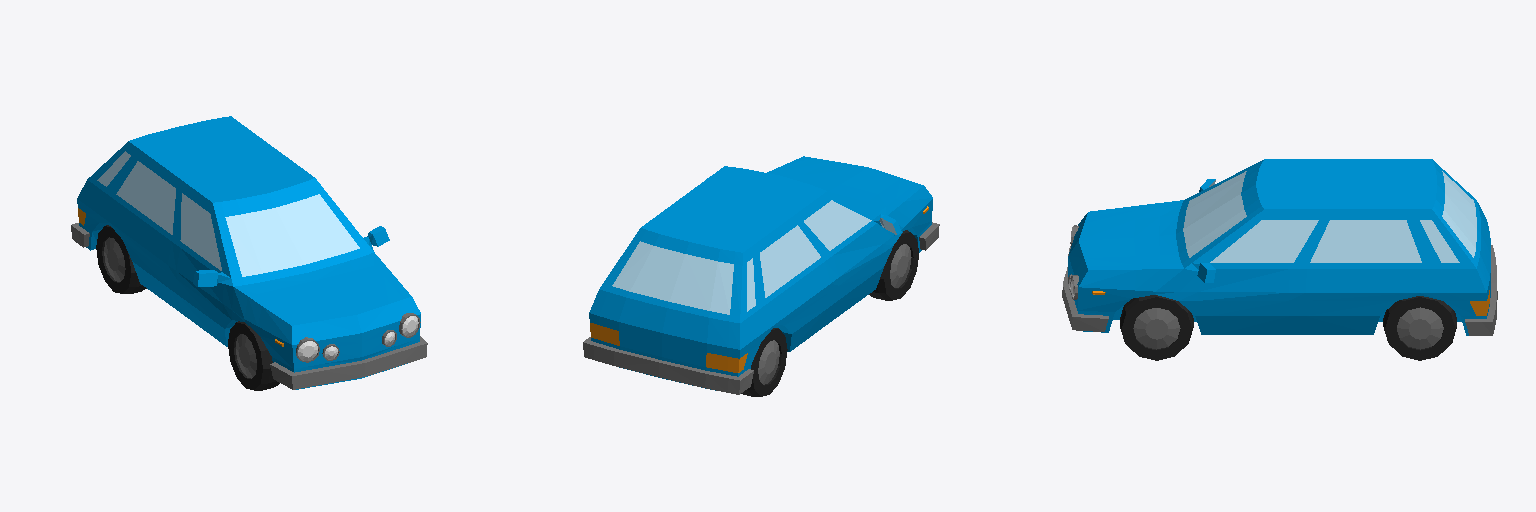
3 views of the same model, side by side, from view 1: azimuth 30°, elevation 25°; view 2: azimuth 150°, elevation 25°; view 3: azimuth 270°, elevation 25° (orthographic).
Parts seen in each view (by area): view 1: Car; view 2: Car; view 3: Car.
Boxes of the visible parts, x1=… form: Car: x1=71, y1=116, x2=427, y2=390; Car: x1=583, y1=156, x2=939, y2=396; Car: x1=1062, y1=159, x2=1497, y2=360.
Bounding box in the file's own units: 45.5 × 32.33 × 89.11.
1 materials, 1 textured.